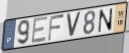8: (82, 10, 97, 36)
9: (16, 19, 31, 46)
E: (31, 15, 49, 45)
F: (47, 14, 66, 43)
N: (98, 8, 114, 34)
V: (65, 11, 82, 38)
